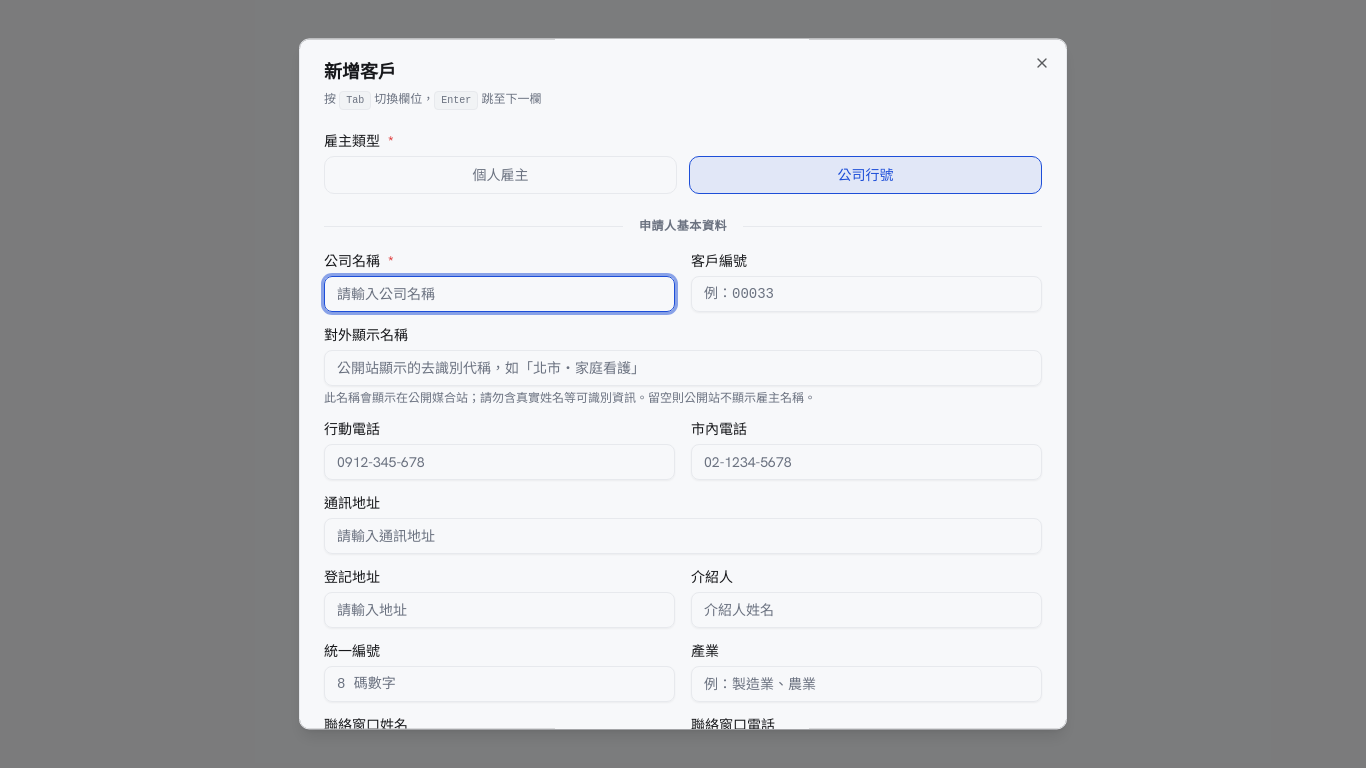
Test: CustomerModal 的必填判斷 › 填滿名稱後，缺少清單只剩三個下拉欄位
Type "台灣精密" into the field with test id "customer-modal-name". click: (500, 295)
box: [324,277,675,313]
(page scrolled)
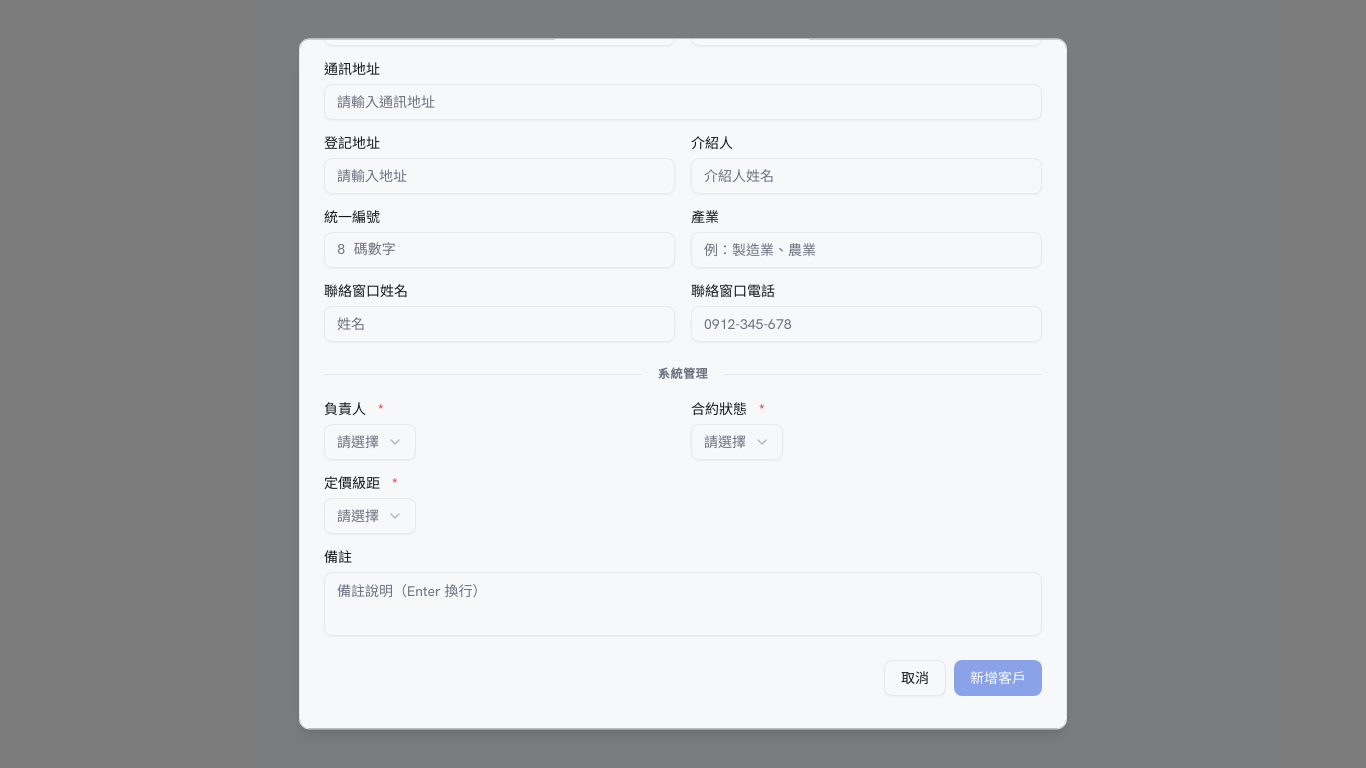
Hover over the element with test id "customer-modal-submit-wrap" at (998, 679), box [954,661,1042,697]
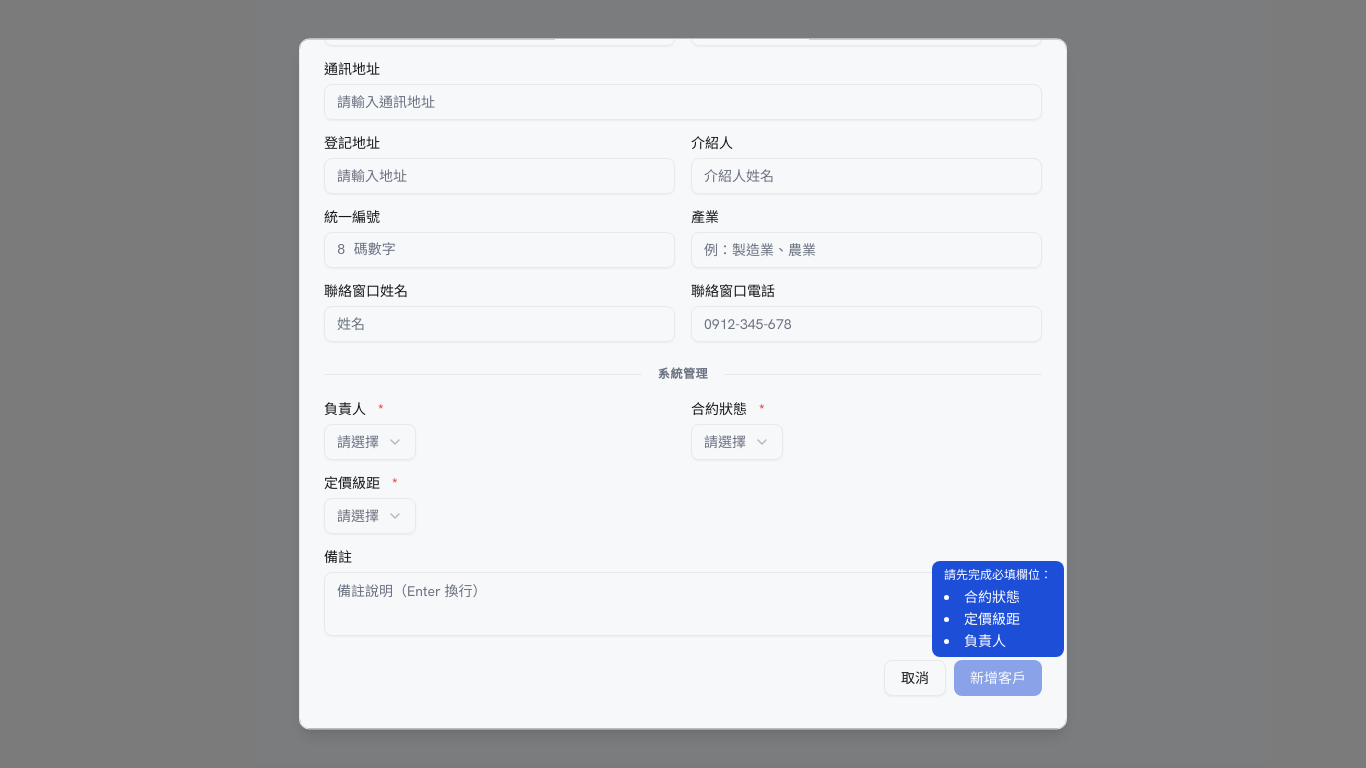
Expected: the tooltip shows "合約狀態", [964,588,1020,606]
Expected: the tooltip shows "定價級距", [964,610,1020,628]
Expected: the tooltip shows "負責人", [964,632,1006,650]
